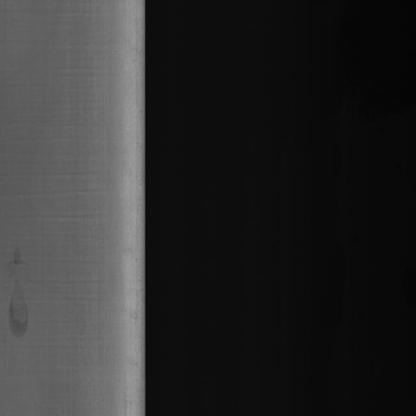oil_spot: (2, 240, 46, 342)
